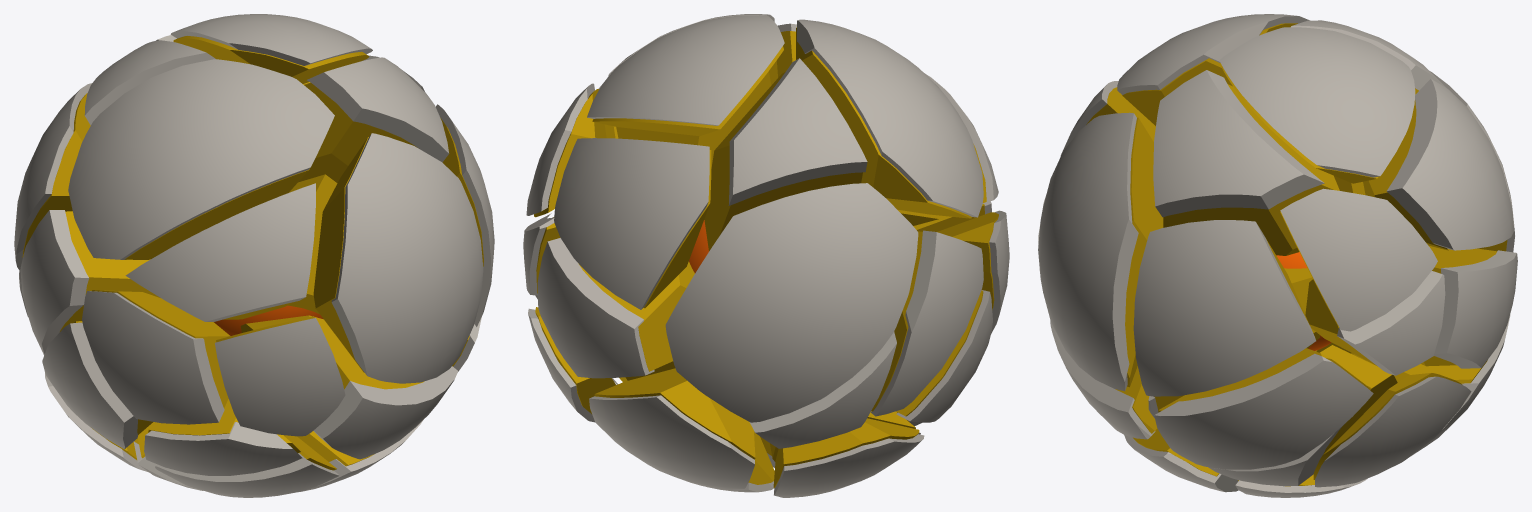
The model's file is planet5.glb.
3 views of the same model, side by side, from view 1: azimuth 30°, elevation 25°; view 2: azimuth 150°, elevation 25°; view 3: azimuth 270°, elevation 25° (orthographic).
Parts seen in each view (by area): view 1: Sphere.2_fracturepart1 (×2), Sphere; view 2: Sphere.2_fracturepart1 (×2), Sphere; view 3: Sphere.2_fracturepart1 (×2), Sphere.
Boxes of the visible parts, x1=… form: Sphere.2_fracturepart1 (×2): x1=14, y1=14, x2=494, y2=497; Sphere: x1=214, y1=305, x2=323, y2=335; Sphere.2_fracturepart1 (×2): x1=523, y1=14, x2=1009, y2=497; Sphere: x1=689, y1=220, x2=708, y2=273; Sphere.2_fracturepart1 (×2): x1=1038, y1=14, x2=1517, y2=497; Sphere: x1=1276, y1=252, x2=1331, y2=350.
Size of the model in its own units: 119 by 120 by 119.
